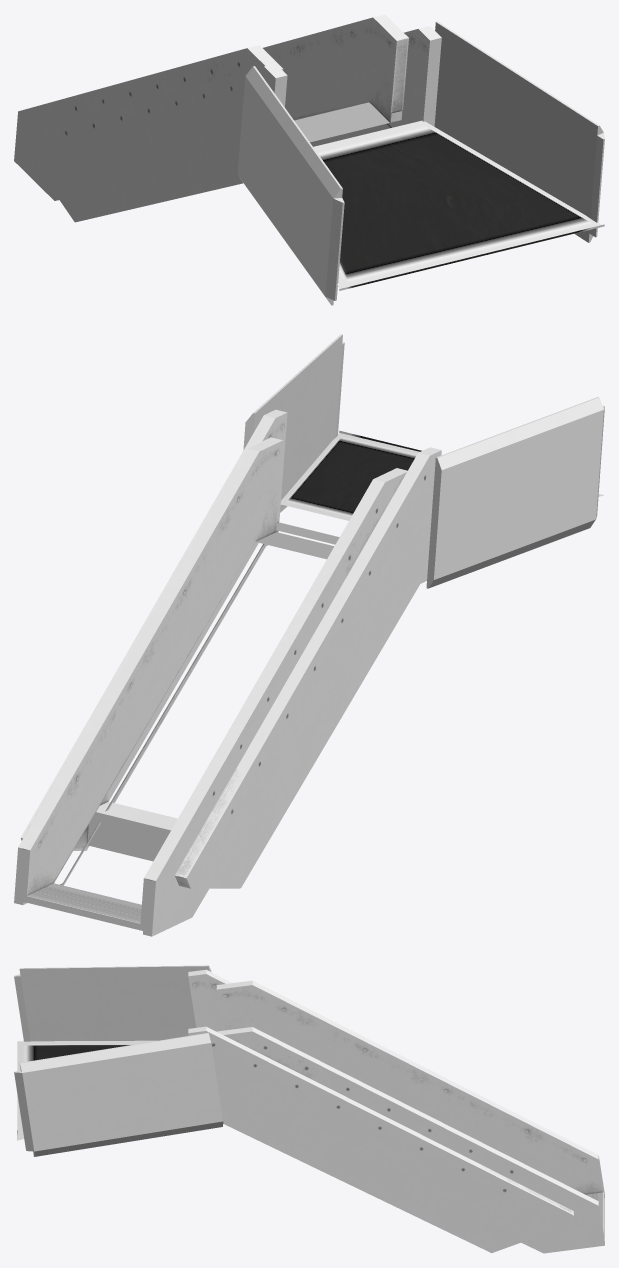
Rendered from ASO_Boarding_Stairs_LOD04.gltf.
3 views of the same model, one above another, from view 1: azimuth 30°, elevation 25°; view 2: azimuth 150°, elevation 25°; view 3: azimuth 270°, elevation 25° (orthographic). The views are drawn at different scales.
Visible parts, largest first — view 1: Ramp_End, Ramp_Start; view 2: Ramp_End, Ramp_Start; view 3: Ramp_End, Ramp_Start.
Boxes of the visible parts, x1,y1,x2,y2 form: Ramp_End: (20,21,604,305); Ramp_Start: (14,14,408,200); Ramp_End: (20,334,604,888); Ramp_Start: (14,437,407,936); Ramp_End: (14,965,573,1253); Ramp_Start: (216,980,604,1253).
Bounding box in the file's own units: 3.47 × 3.71 × 8.69.
